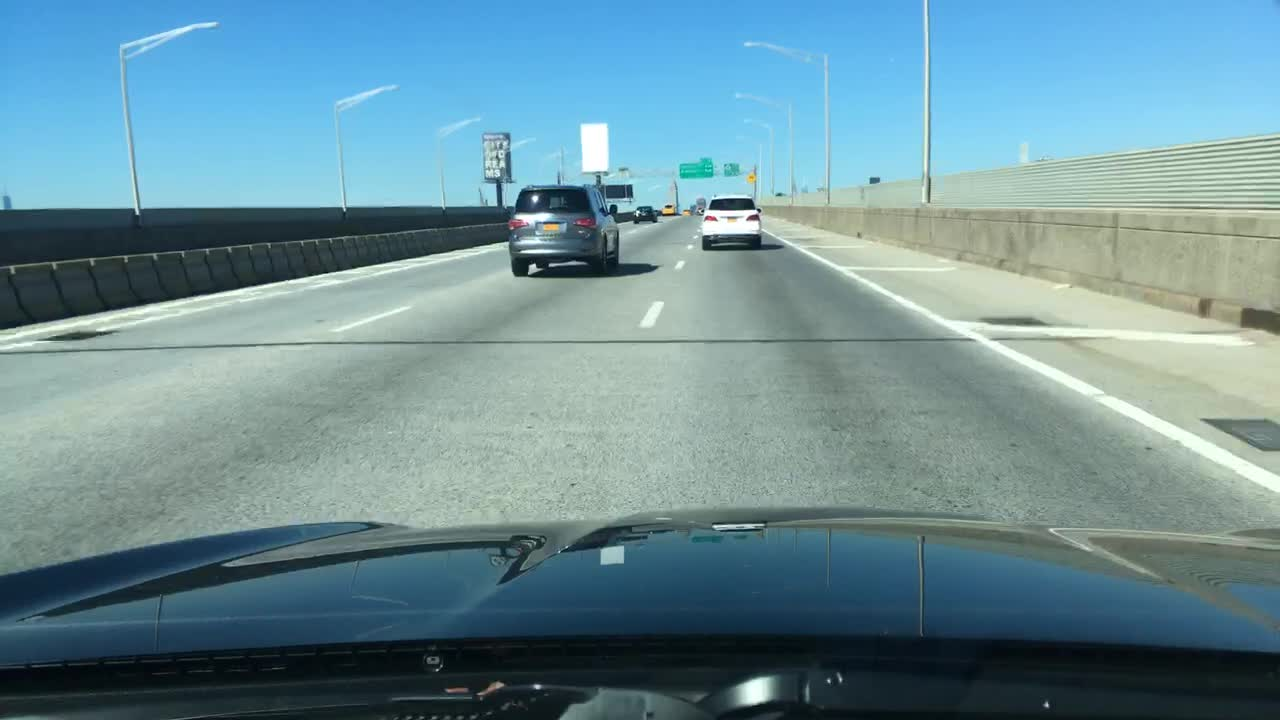car: (503, 181, 623, 278), (697, 192, 766, 251), (630, 204, 659, 226), (659, 199, 678, 217), (693, 202, 706, 217), (681, 207, 691, 218)
traffic sign: (579, 120, 610, 175), (676, 153, 714, 180), (604, 181, 635, 201), (720, 161, 740, 177), (745, 167, 755, 186)
